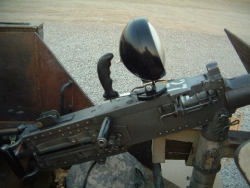rifle: (5, 29, 248, 180)
